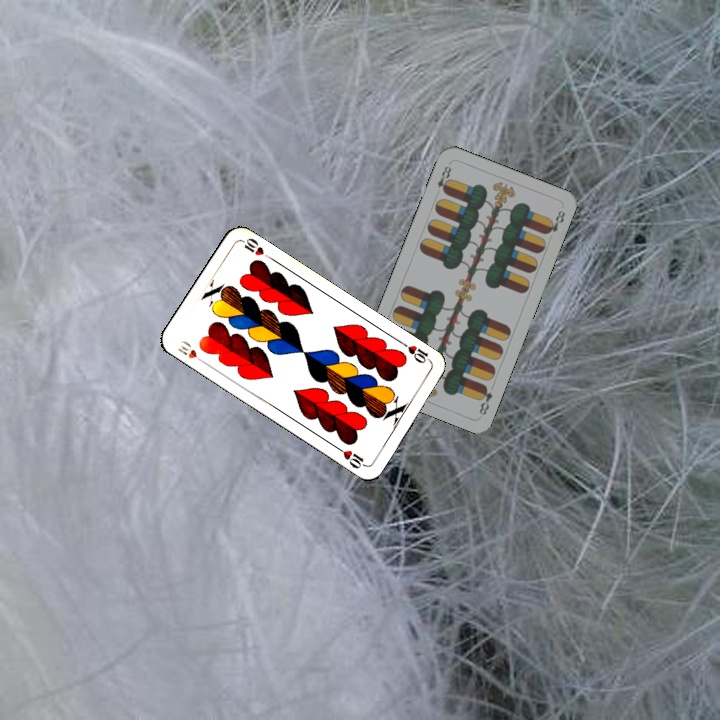E8: (475, 381, 495, 418), (433, 162, 454, 196)
H10: (173, 336, 208, 366), (398, 338, 434, 366)
